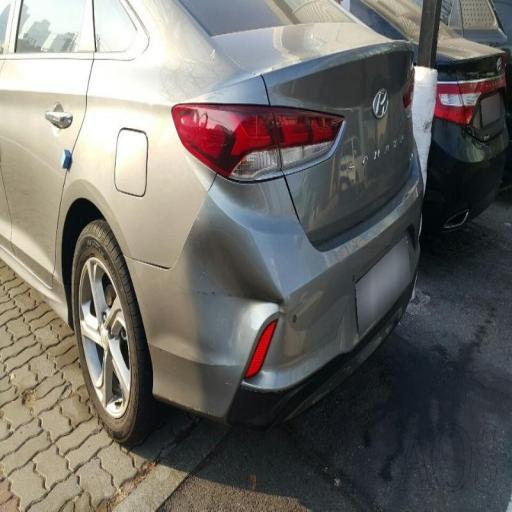dent: (152, 172, 294, 401)
scratch: (280, 262, 366, 366)
